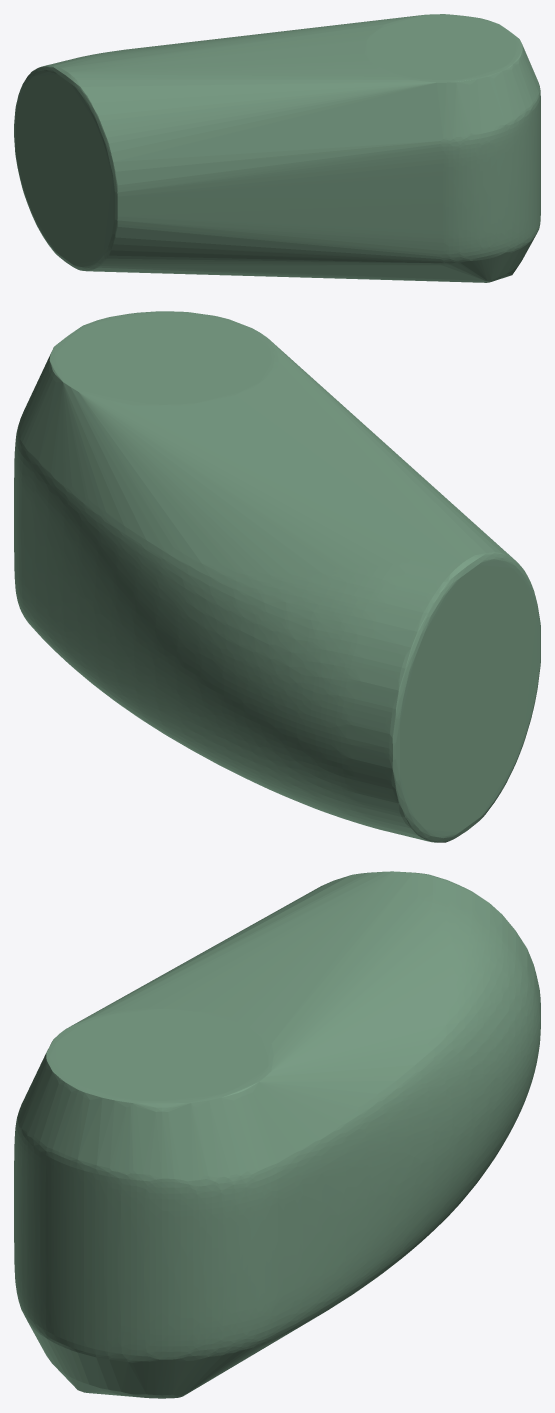
Rendered from arm_l3.obj.
3 views of the same model, one above another, from view 1: azimuth 30°, elevation 25°; view 2: azimuth 150°, elevation 25°; view 3: azimuth 270°, elevation 25° (orthographic). The views are drawn at different scales.
Parts seen in each view (by area): view 1: geometry_0; view 2: geometry_0; view 3: geometry_0.
Boxes of the visible parts, left/top/right/bottom form: geometry_0: left=14, top=14, right=540, bottom=282; geometry_0: left=14, top=311, right=540, bottom=842; geometry_0: left=14, top=871, right=540, bottom=1398.
Bounding box in the file's own units: 0.1648 × 0.0882 × 0.1376.
